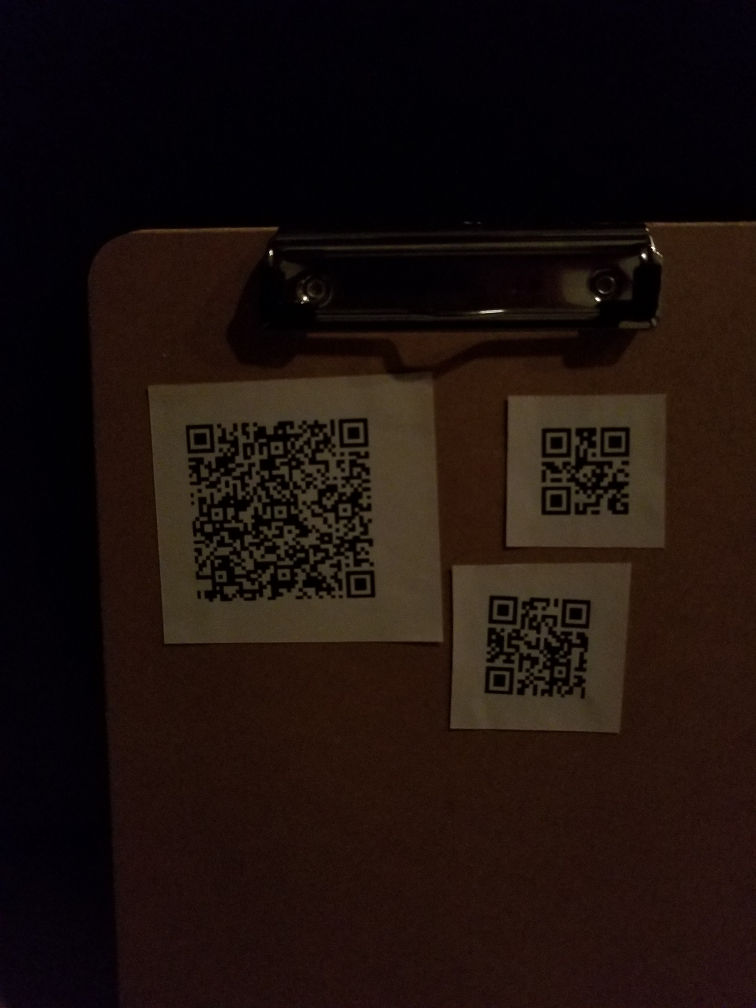QR_CODE: (172, 391, 386, 615), (465, 580, 599, 716), (525, 406, 650, 536)
